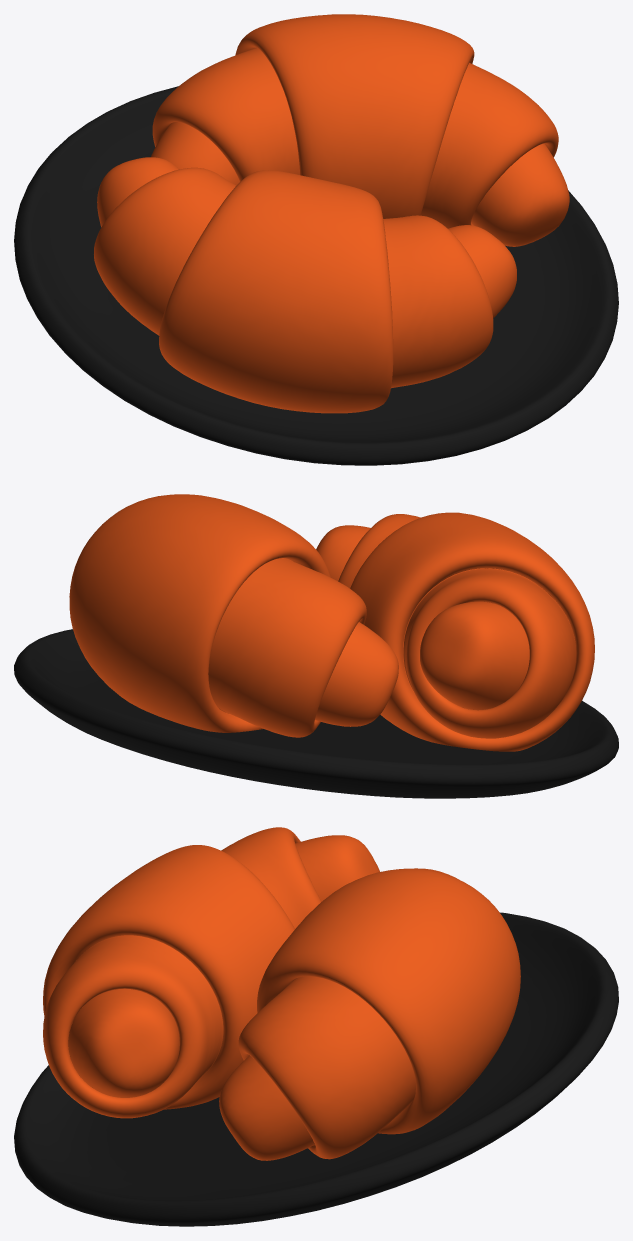
3 views of the same model, one above another, from view 1: azimuth 30°, elevation 25°; view 2: azimuth 150°, elevation 25°; view 3: azimuth 270°, elevation 25° (orthographic). The views are drawn at different scales.
Parts seen in each view (by area): view 1: Plane.074, Circle.117, Plane.073; view 2: Plane.073, Plane.074, Circle.117; view 3: Plane.073, Circle.117, Plane.074.
Boxes of the visible parts, x1,y1,x2,y2 form: Plane.074: (94,157,516,413); Circle.117: (14,86,618,465); Plane.073: (151,14,569,246); Plane.073: (69,494,398,737); Plane.074: (316,512,594,751); Circle.117: (14,629,618,798); Plane.073: (219,868,520,1160); Circle.117: (14,912,618,1226); Plane.074: (43,827,379,1118).
Bounding box in the file's own units: 3.31 × 1.74 × 3.2.
